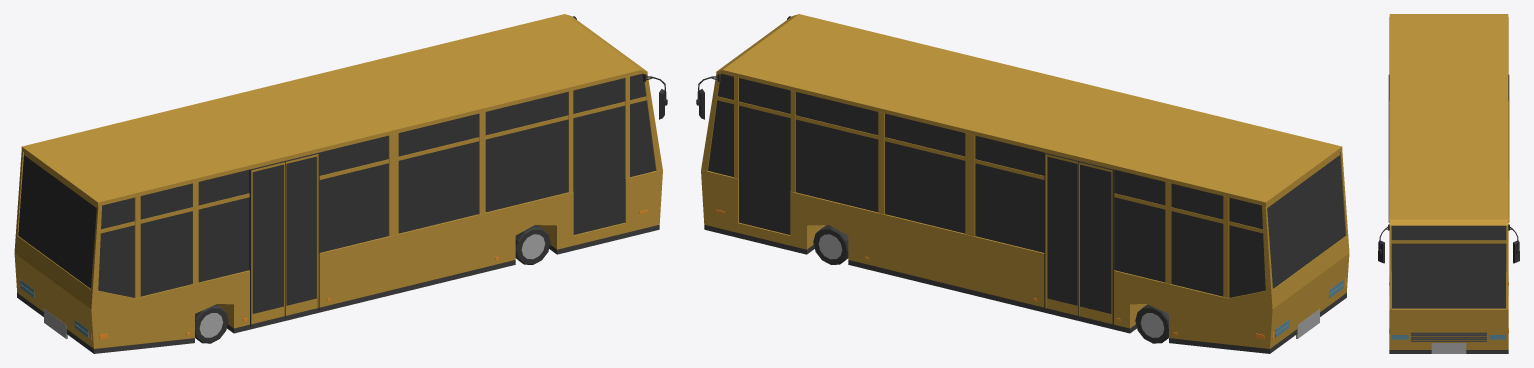
File: Car_BUS.fbx
The picture shows the model from 3 angles, left to right: view 1: azimuth 30°, elevation 25°; view 2: azimuth 150°, elevation 25°; view 3: azimuth 270°, elevation 25°; orthographic projection. The views are drawn at different scales.
Parts seen in each view (by area): view 1: Car_BUS; view 2: Car_BUS; view 3: Car_BUS.
Part boxes in pixels (x1,y1,x2,y2): Car_BUS: [14, 14, 667, 353]; Car_BUS: [696, 14, 1349, 353]; Car_BUS: [1378, 14, 1519, 353].
Bounding box in the file's own units: 14.43 × 4.13 × 3.99.
